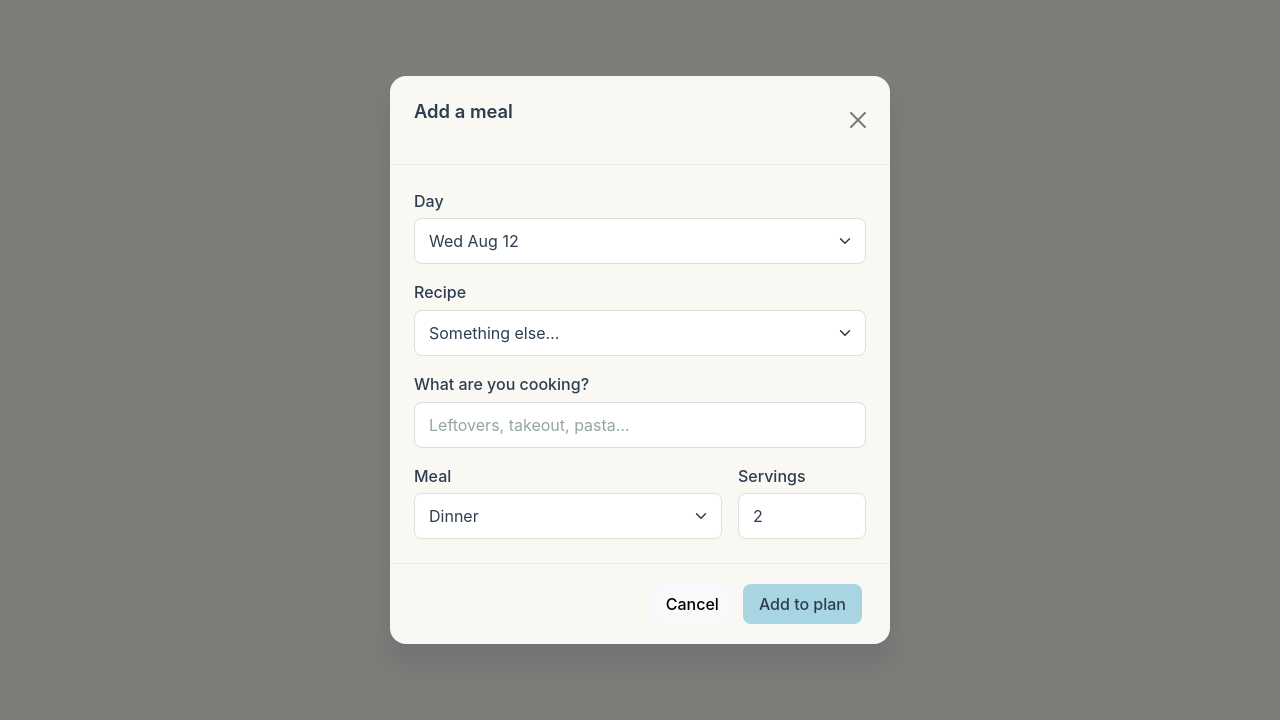
ScheduleMealModal › asks for a name rather than saving an empty meal
Click the button "Add to plan". click: coordinates (802, 604)
box: [743,584,862,624]
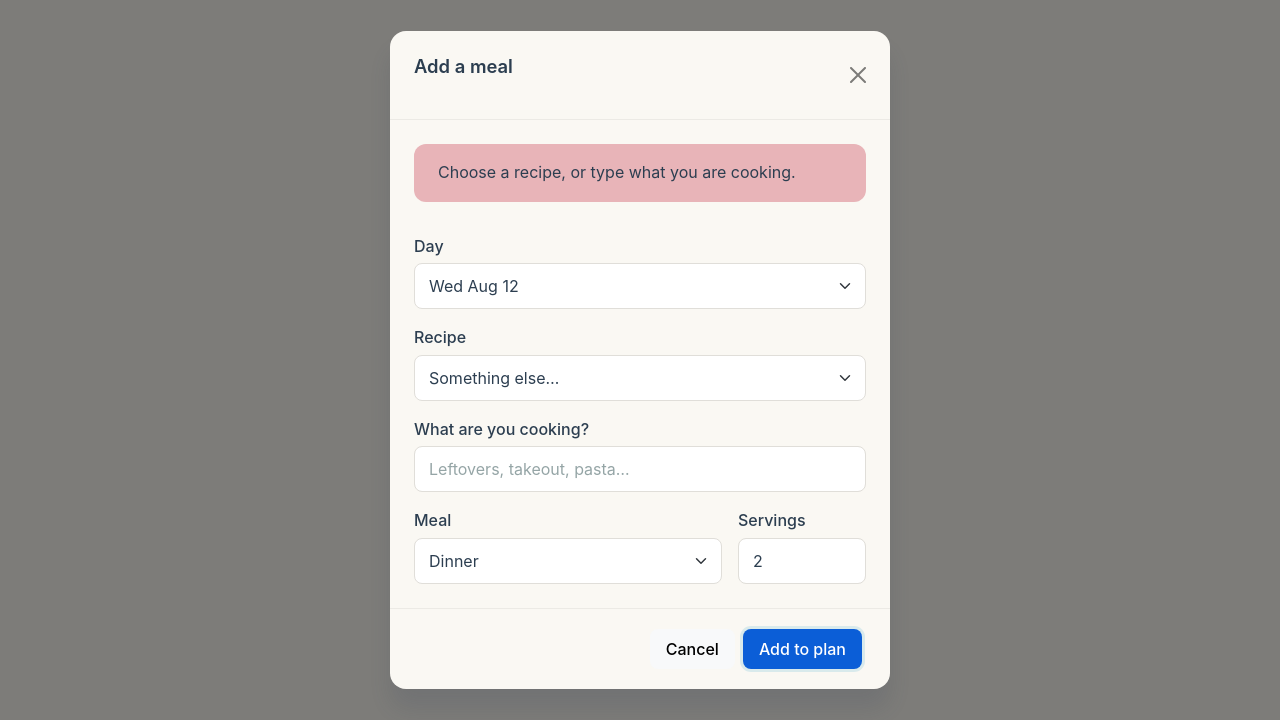
Result: the text "Choose a recipe, or type what you are cooking." is shown at [414,144,866,202]
